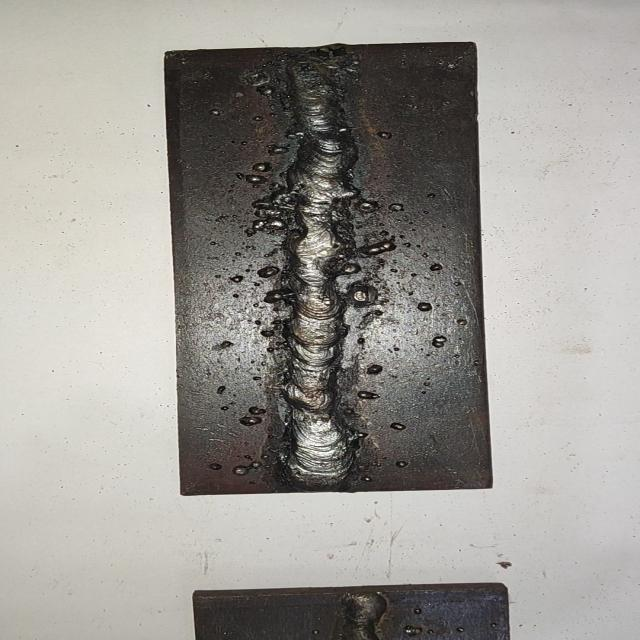Defect: (235, 176, 398, 247), (248, 45, 382, 100), (340, 590, 396, 638), (332, 278, 390, 310)
Welding Line: (272, 50, 361, 485)
Workpiece: (158, 36, 506, 497), (191, 576, 509, 640)
